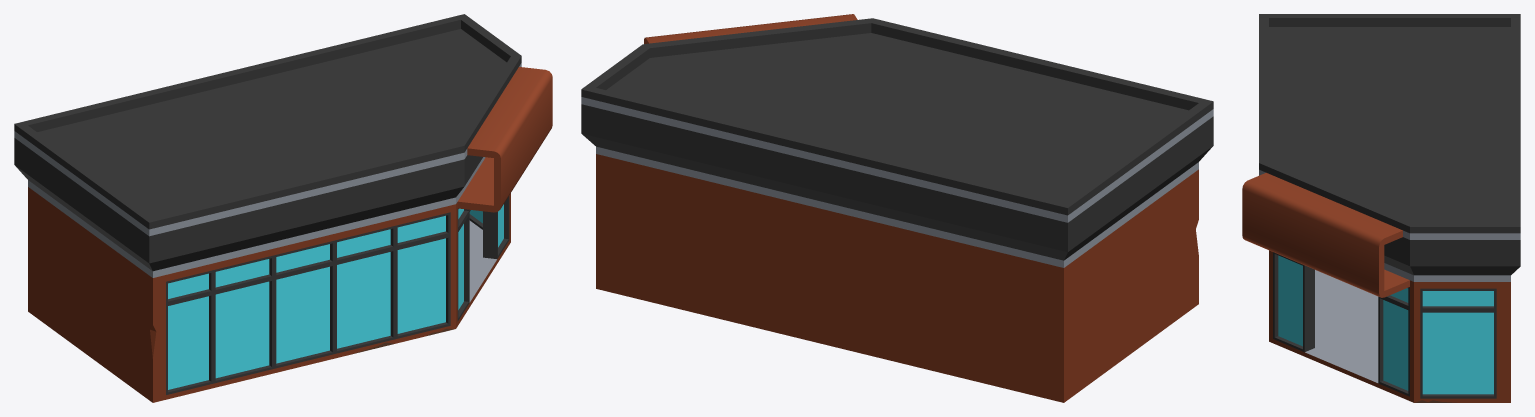
File: SM_Buildings_Commercial_09.fbx
3 views of the same model, side by side, from view 1: azimuth 30°, elevation 25°; view 2: azimuth 150°, elevation 25°; view 3: azimuth 270°, elevation 25° (orthographic). The views are drawn at different scales.
Parts seen in each view (by area): view 1: SM_Buildings_Commercial_09; view 2: SM_Buildings_Commercial_09; view 3: SM_Buildings_Commercial_09.
Boxes of the visible parts, x1=… form: SM_Buildings_Commercial_09: x1=14, y1=14, x2=552, y2=402; SM_Buildings_Commercial_09: x1=581, y1=14, x2=1213, y2=402; SM_Buildings_Commercial_09: x1=1242, y1=14, x2=1520, y2=402.
Bounding box in the file's own units: 10.75 × 4.1 × 5.75.
